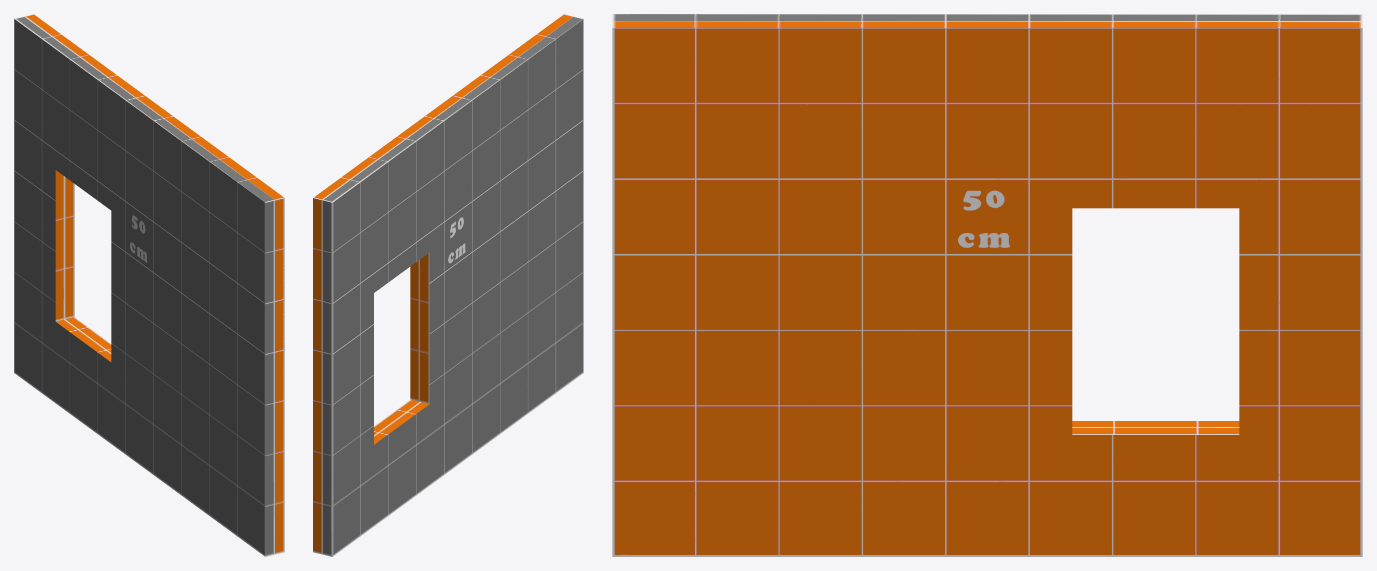
The model's file is casa_pared_03.fbx.
The picture shows the model from 3 angles, left to right: view 1: azimuth 30°, elevation 25°; view 2: azimuth 150°, elevation 25°; view 3: azimuth 270°, elevation 25°; orthographic projection. The views are drawn at different scales.
Parts seen in each view (by area): view 1: casa_pared_03; view 2: casa_pared_03; view 3: casa_pared_03.
Part boxes in pixels (x1,y1,x2,y2): casa_pared_03: (14,14,284,556); casa_pared_03: (313,14,583,556); casa_pared_03: (612,14,1362,556).
Size of the model in its own units: 20 by 350 by 450.
